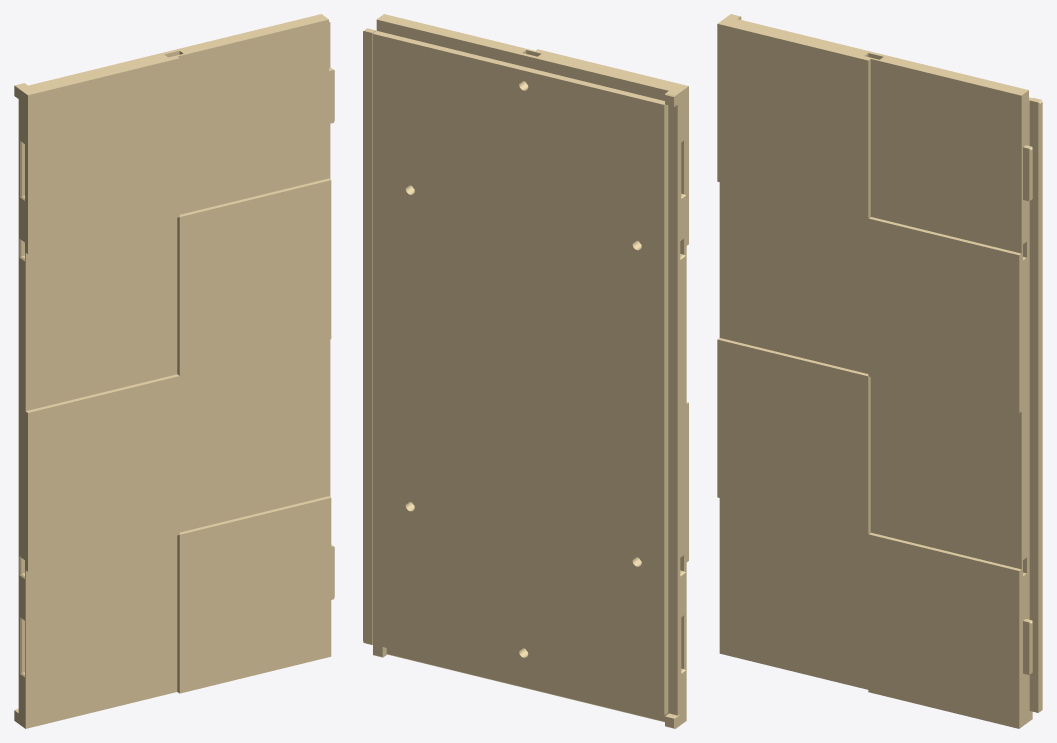
The model's file is .panel_north_ef_light_body.step.glb.
3 renders of one model, left to right at view 1: azimuth 30°, elevation 25°; view 2: azimuth 150°, elevation 25°; view 3: azimuth 330°, elevation 25°, orthographic.
Parts seen in each view (by area): view 1: o1; view 2: o1; view 3: o1.
Boxes of the visible parts, <box> form: o1: <box>14,14,334,728</box>; o1: <box>363,14,688,728</box>; o1: <box>717,14,1042,728</box>.
Size of the model in its own units: 0.124 by 0.24 by 0.0096.
